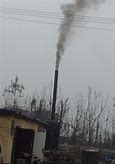smoke: (54, 1, 71, 69)
